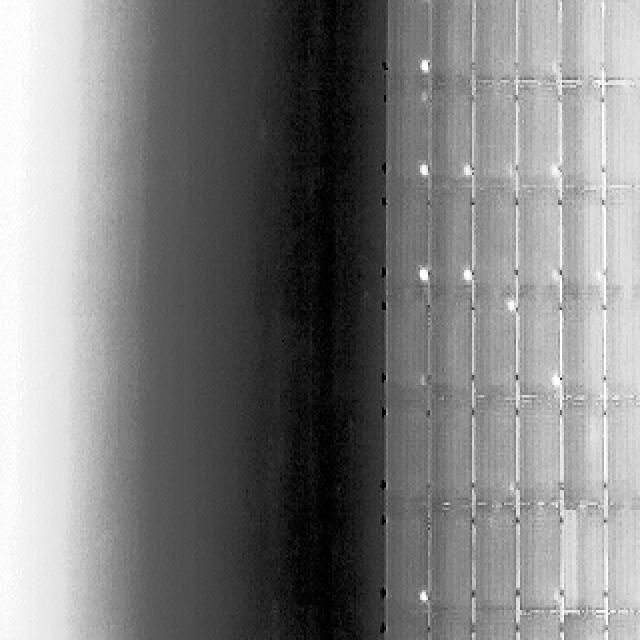Hotspots: (448, 155, 470, 183), (545, 158, 562, 182), (459, 264, 477, 286), (459, 158, 476, 181), (546, 368, 562, 392), (415, 264, 430, 288), (415, 158, 430, 180), (418, 56, 432, 79), (414, 584, 429, 604), (506, 296, 518, 316), (545, 266, 559, 274)
PV-modules: (558, 400, 612, 509), (423, 186, 470, 296), (469, 185, 516, 294), (520, 507, 568, 613), (424, 507, 471, 615), (519, 397, 565, 507), (516, 291, 562, 401), (427, 397, 473, 506), (558, 291, 604, 400), (558, 84, 604, 192), (470, 83, 516, 191), (518, 82, 563, 192), (424, 298, 471, 402), (473, 507, 520, 611), (470, 397, 514, 507), (424, 88, 470, 193), (562, 506, 606, 613), (387, 184, 429, 296), (518, 186, 563, 290), (469, 291, 513, 397), (558, 187, 603, 290), (387, 507, 429, 615), (387, 399, 429, 505), (388, 90, 430, 192), (387, 294, 428, 396), (600, 508, 640, 612), (424, 0, 471, 87), (604, 290, 640, 402), (602, 185, 640, 290), (602, 85, 640, 187), (556, 0, 604, 80), (388, 0, 430, 88), (606, 397, 640, 505), (518, 2, 562, 84), (472, 0, 516, 80), (602, 0, 640, 80), (424, 610, 470, 640), (472, 612, 520, 640), (518, 612, 564, 640), (386, 612, 428, 640), (560, 615, 606, 640), (600, 615, 640, 640)
